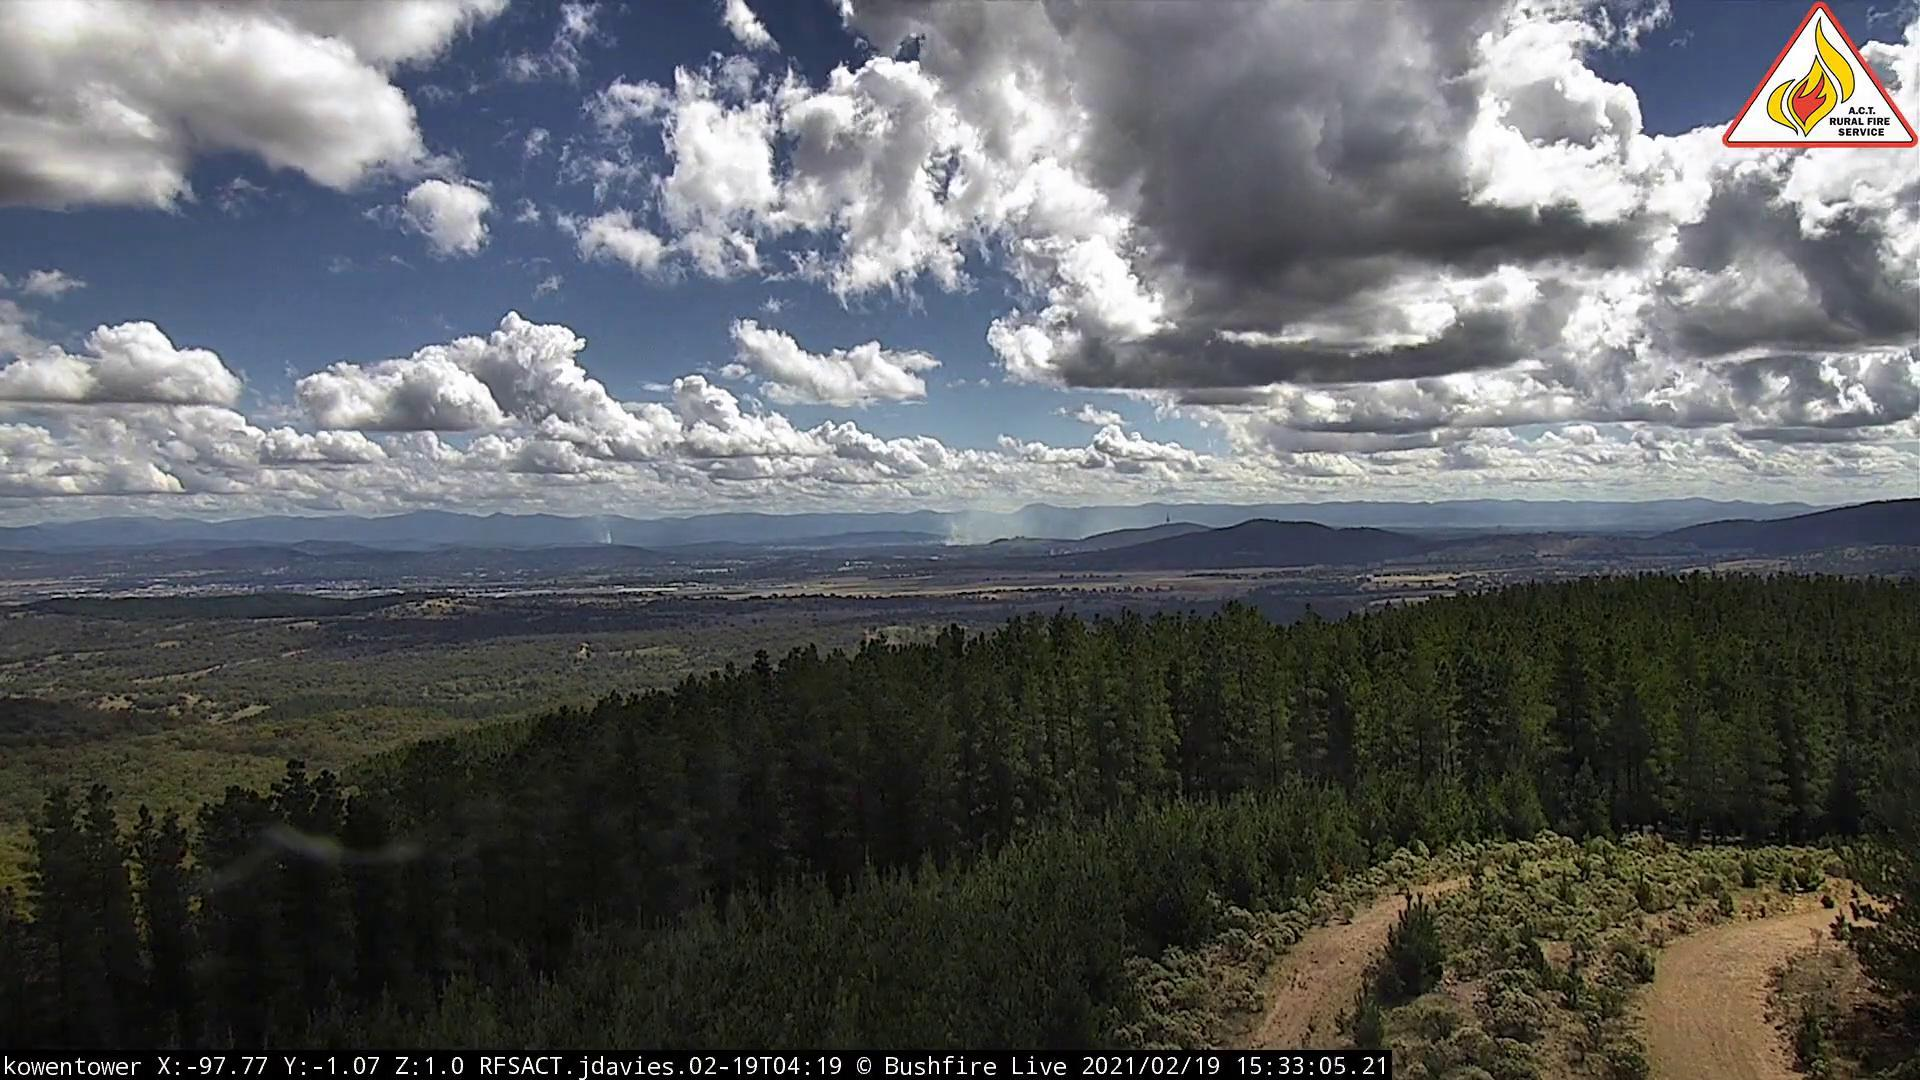Smoke: (942, 495, 1039, 553), (589, 525, 620, 550)
